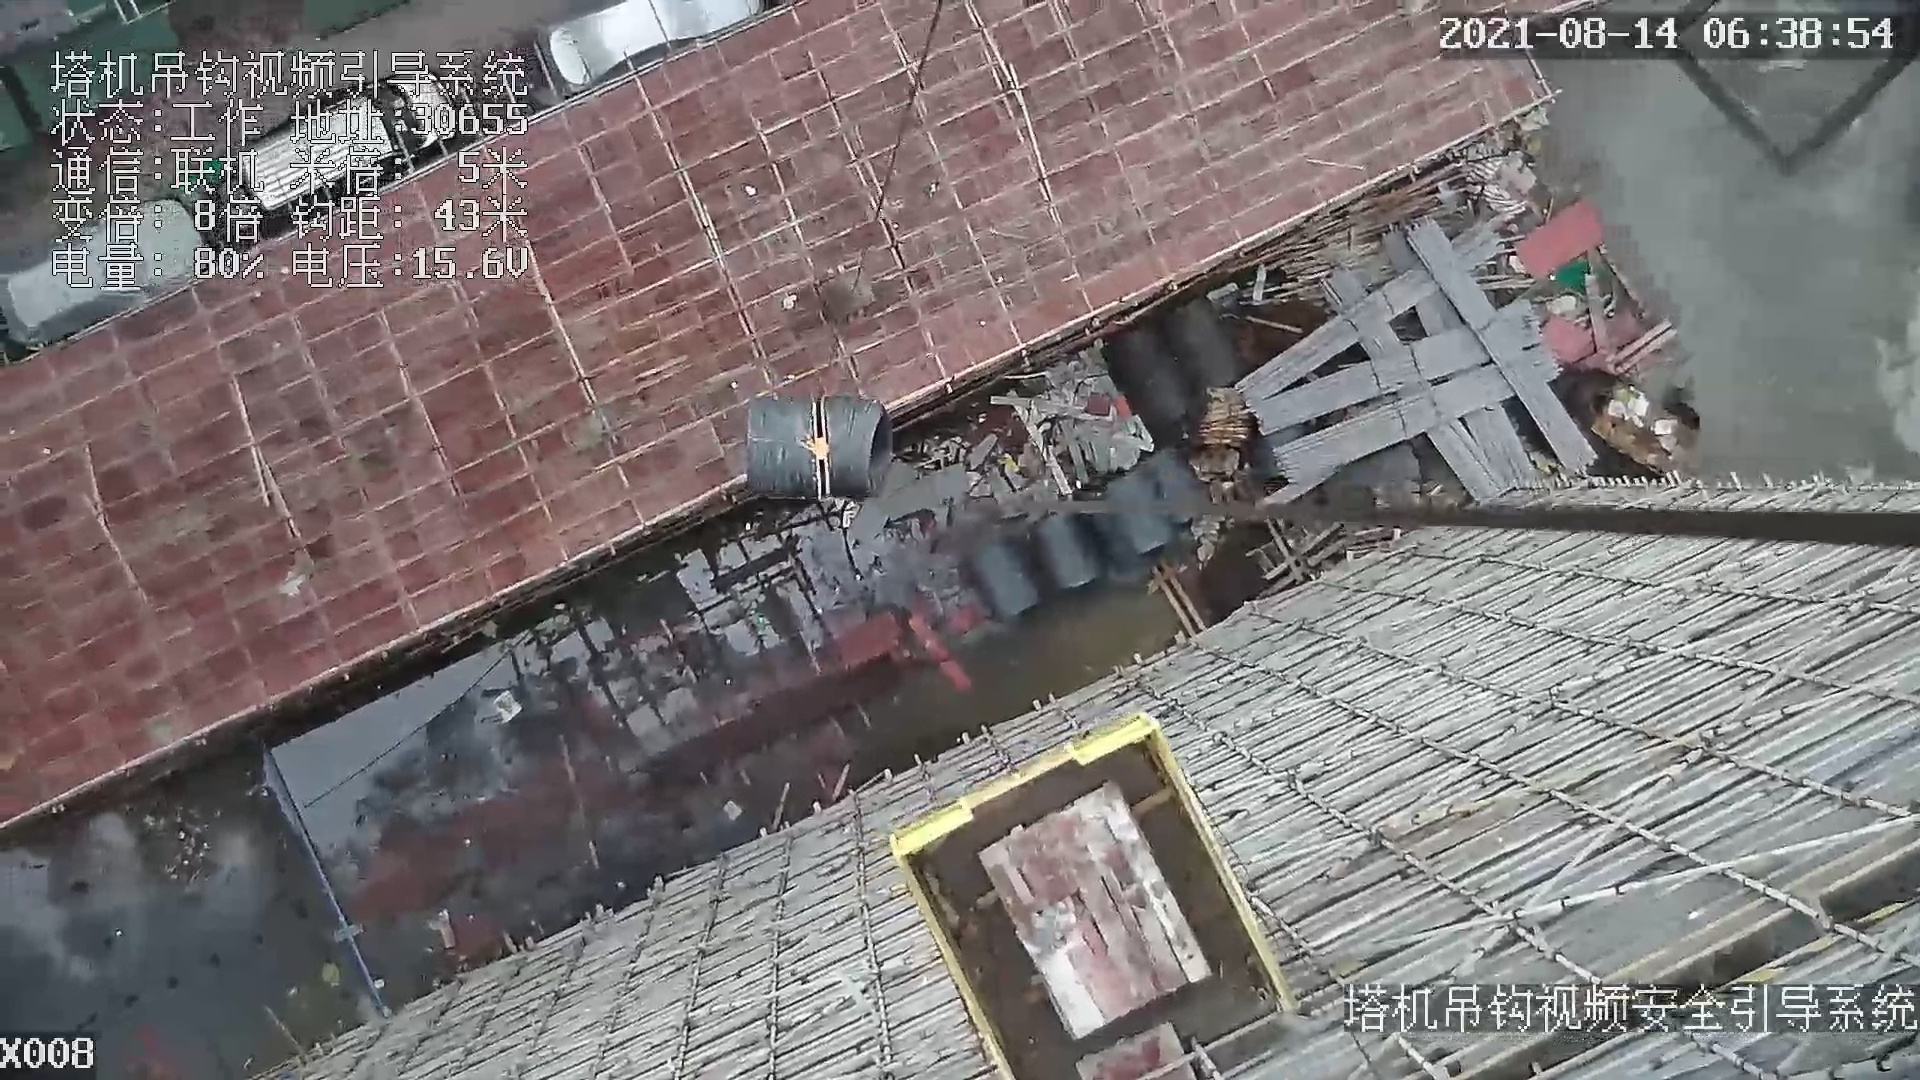hook: (796, 400, 836, 504)
